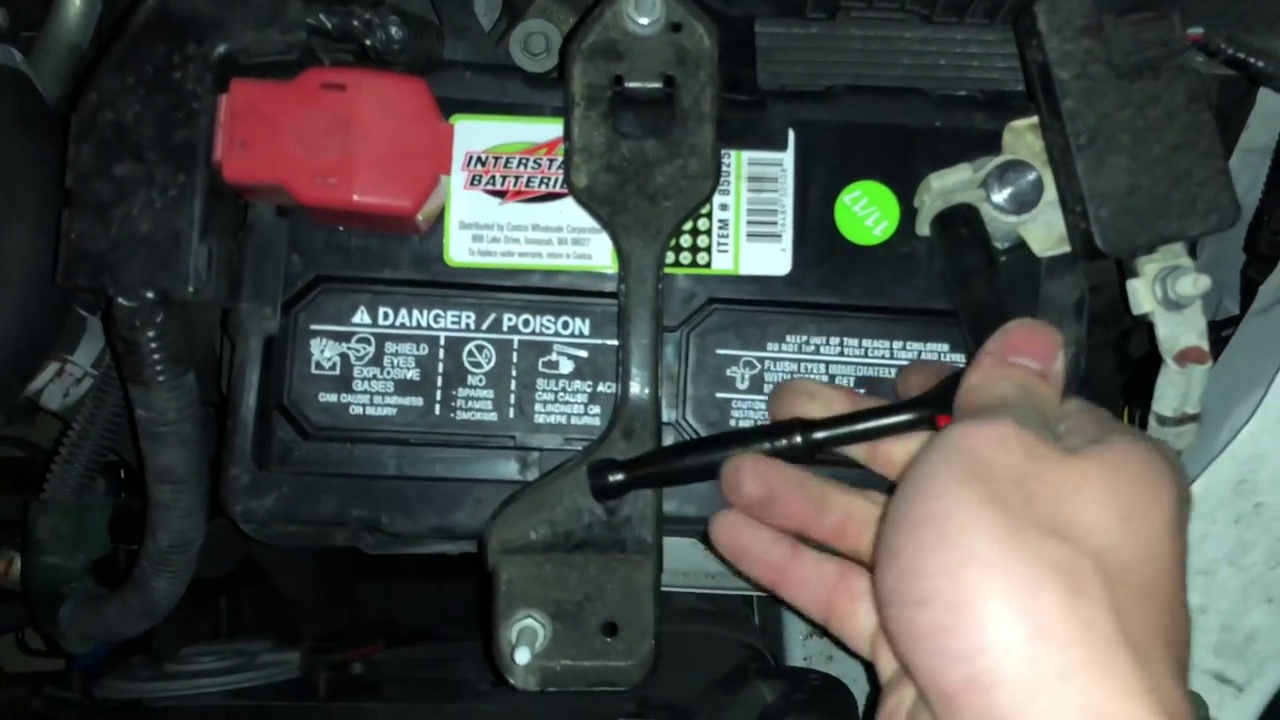battery: (219, 63, 1086, 587)
neg_connected: (886, 113, 1092, 274)
pos_connected: (184, 82, 472, 240)
